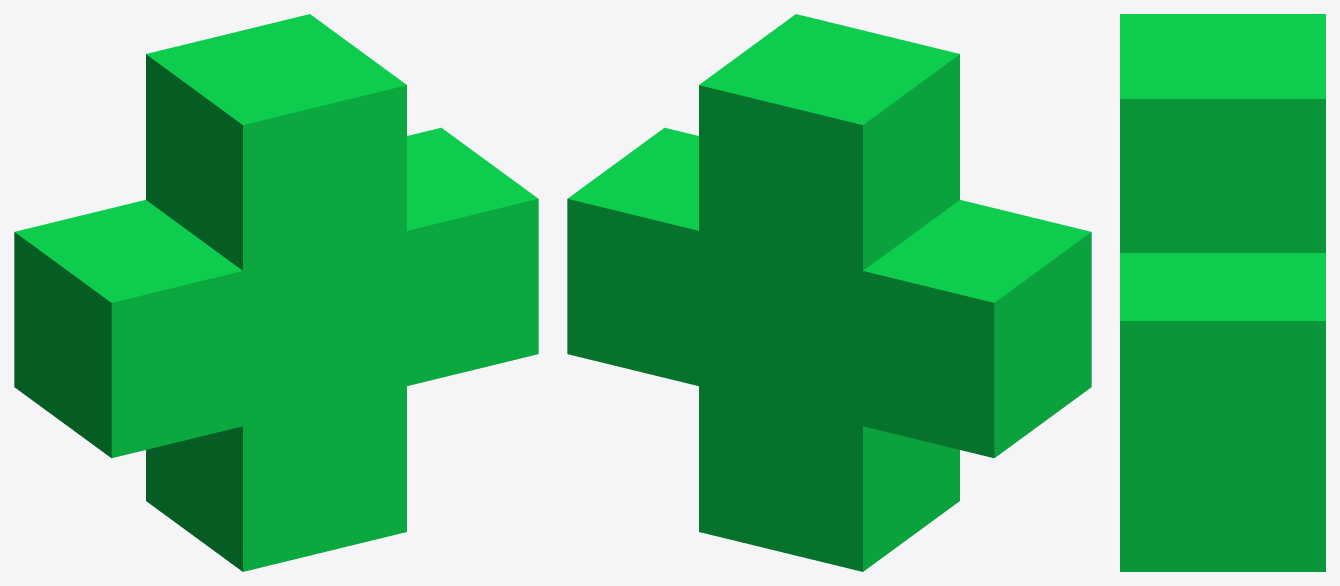
The model's file is Heal.fbx.
3 renders of one model, left to right at view 1: azimuth 30°, elevation 25°; view 2: azimuth 150°, elevation 25°; view 3: azimuth 270°, elevation 25°, orthographic. The views are drawn at different scales.
Parts seen in each view (by area): view 1: Heal11; view 2: Heal11; view 3: Heal11.
Boxes of the visible parts, x1=… form: Heal11: x1=14, y1=14, x2=538, y2=571; Heal11: x1=567, y1=14, x2=1091, y2=571; Heal11: x1=1120, y1=14, x2=1325, y2=571.
Size of the model in its own units: 1 by 1 by 0.3941.
